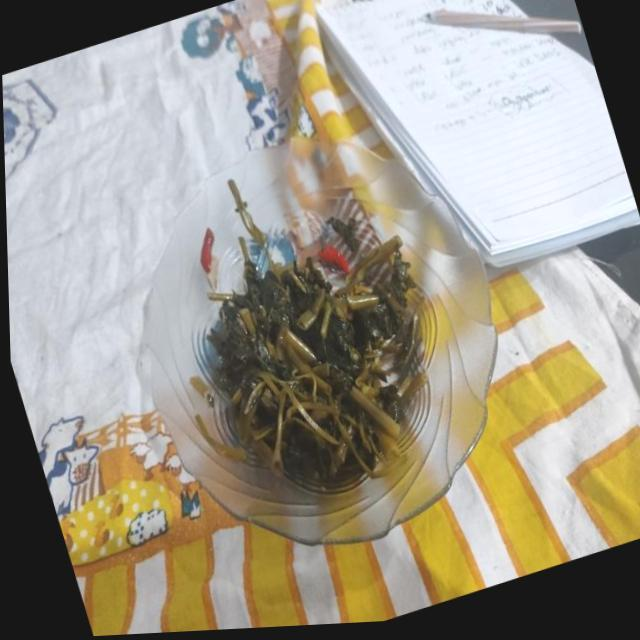tumis_kangkung: (206, 225, 424, 477)
